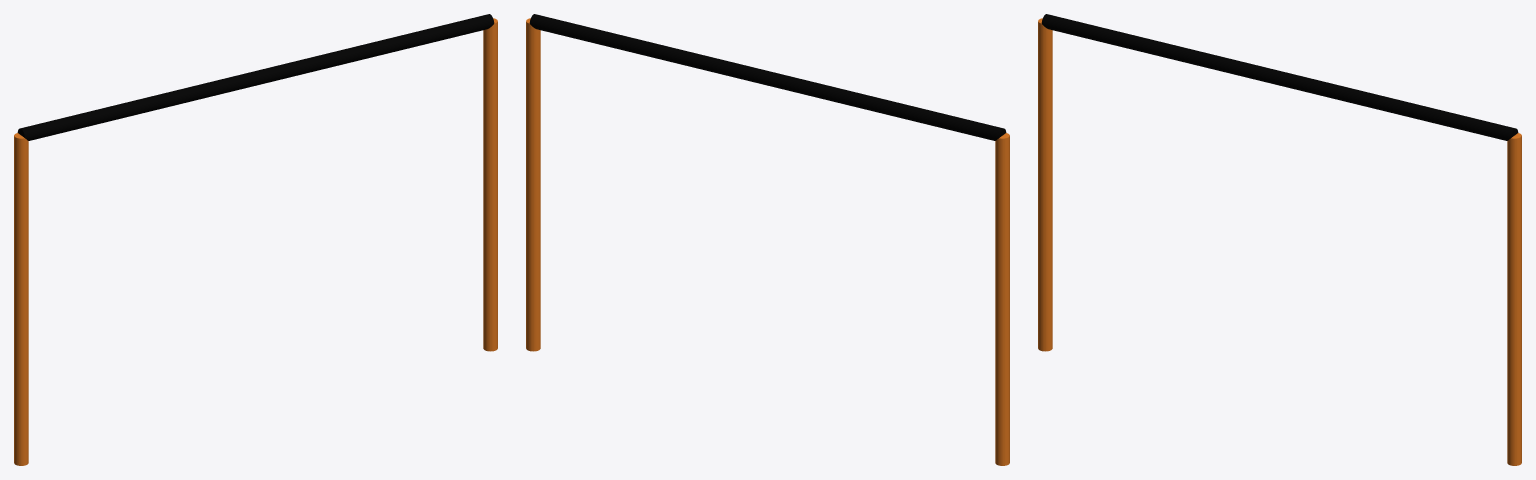
The model's file is orange_gate.dae.
3 views of the same model, side by side, from view 1: azimuth 30°, elevation 25°; view 2: azimuth 150°, elevation 25°; view 3: azimuth 330°, elevation 25° (orthographic).
Visible parts, largest first — view 1: Cylinder.002; view 2: Cylinder.002; view 3: Cylinder.002.
Part boxes in pixels (x1,y1,x2,y2): Cylinder.002: [14, 14, 497, 465]; Cylinder.002: [526, 14, 1009, 465]; Cylinder.002: [1038, 14, 1521, 465].
Bounding box in the file's own units: 1.54 × 0.04 × 1.02.
